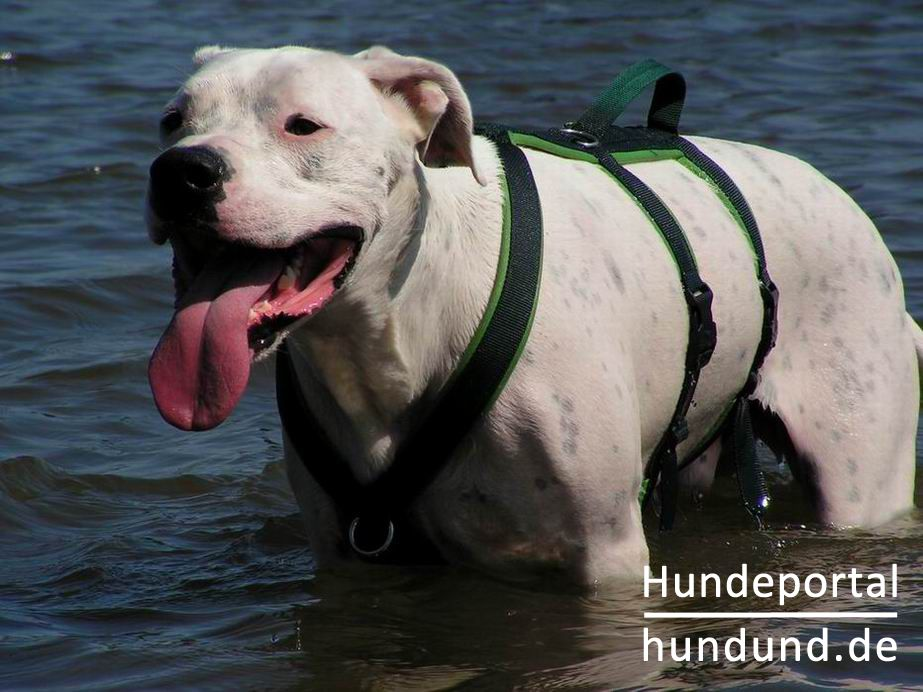dogo_argentino: (143, 45, 923, 596)
